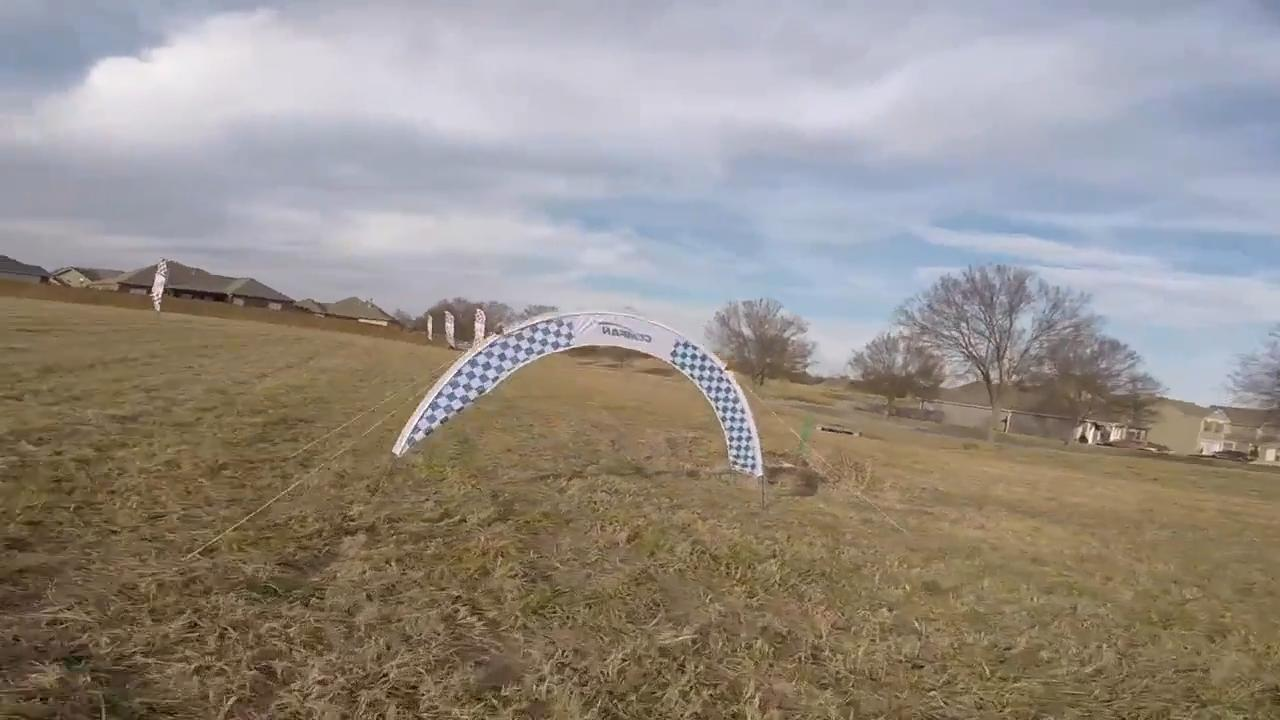gate: (391, 309, 767, 479)
